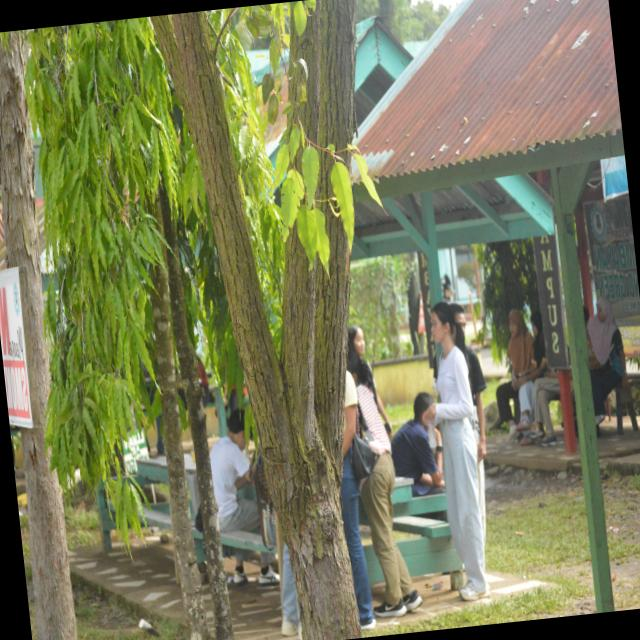person: (347, 350, 420, 617), (430, 303, 488, 601), (340, 371, 375, 630), (209, 410, 258, 532), (391, 393, 444, 497), (586, 298, 627, 430), (347, 326, 391, 438), (495, 310, 532, 438), (464, 345, 485, 541)
